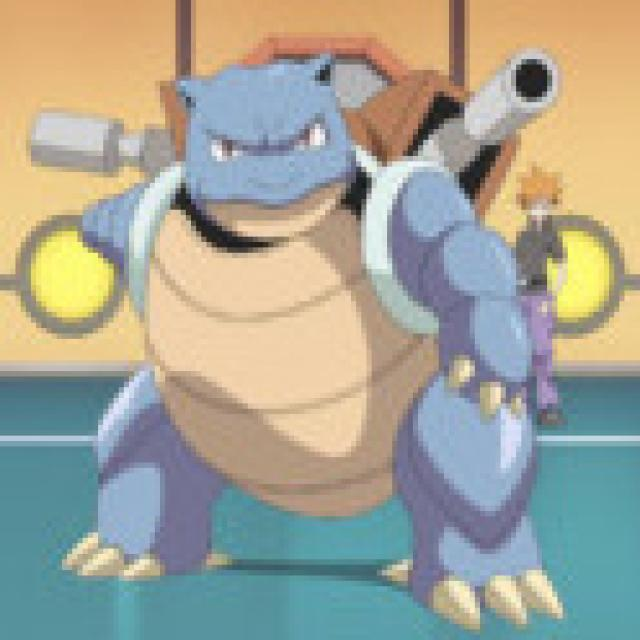Blastoise: (80, 34, 571, 583)
